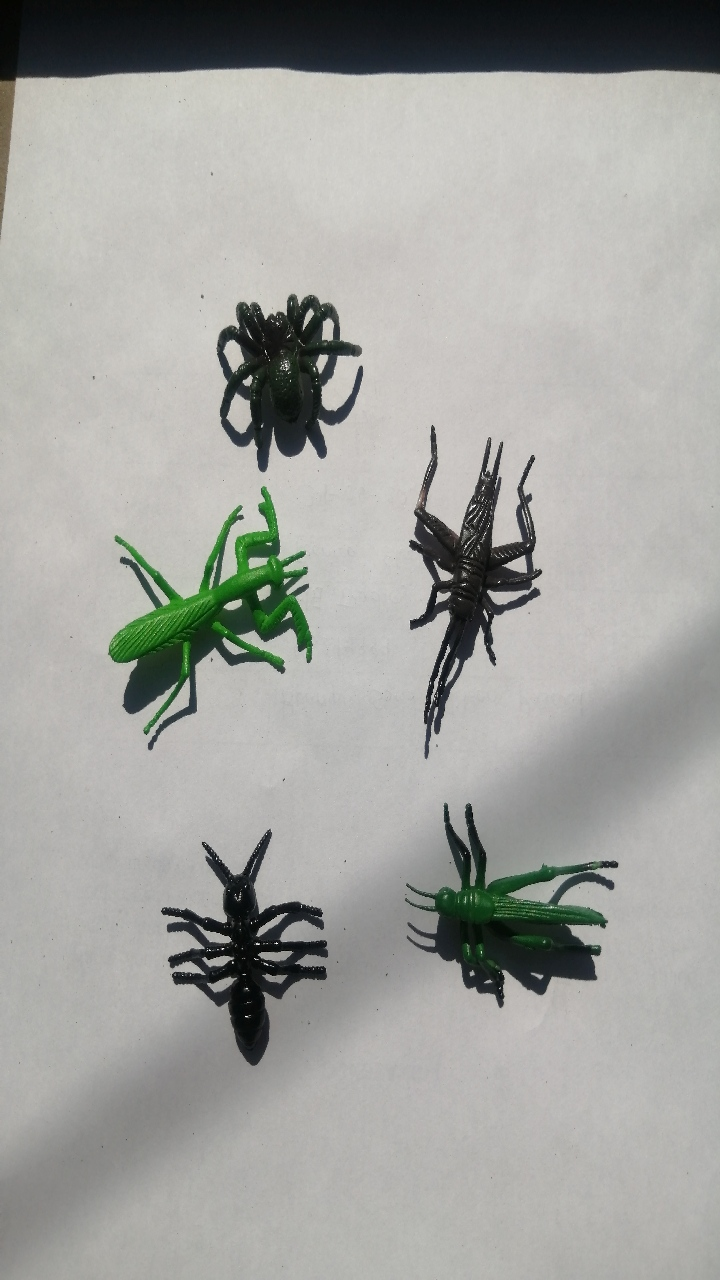intruso: (54, 465, 329, 751), (374, 385, 555, 775), (403, 771, 635, 1048), (138, 797, 346, 1094), (188, 268, 380, 462)
